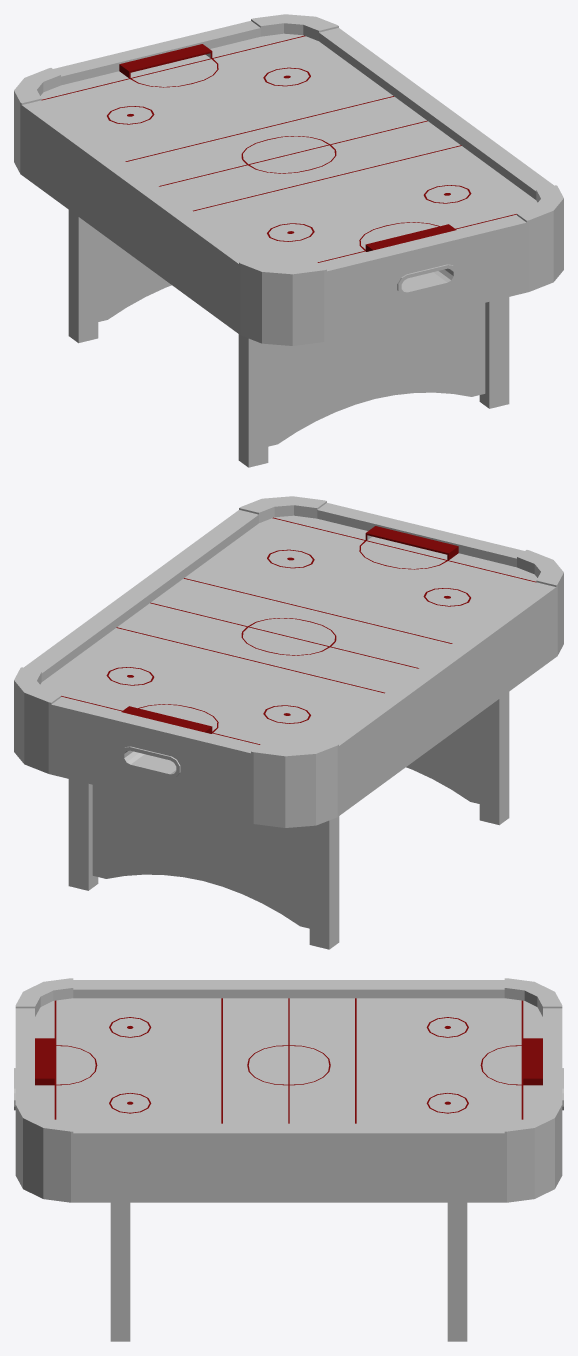
File: hockey_board.obj
The picture shows the model from 3 angles, top to bottom: view 1: azimuth 30°, elevation 25°; view 2: azimuth 150°, elevation 25°; view 3: azimuth 270°, elevation 25°; orthographic projection.
Parts seen in each view (by area): view 1: Mesh_Mesh.001_Air_Hock01_Air_Hock01.001; view 2: Mesh_Mesh.001_Air_Hock01_Air_Hock01.001; view 3: Mesh_Mesh.001_Air_Hock01_Air_Hock01.001.
Part boxes in pixels (x1,y1,x2,y2): Mesh_Mesh.001_Air_Hock01_Air_Hock01.001: [14, 14, 563, 467]; Mesh_Mesh.001_Air_Hock01_Air_Hock01.001: [14, 496, 563, 949]; Mesh_Mesh.001_Air_Hock01_Air_Hock01.001: [14, 978, 563, 1341].
Bounding box in the file's own units: 56.88 × 38.7 × 86.19.
